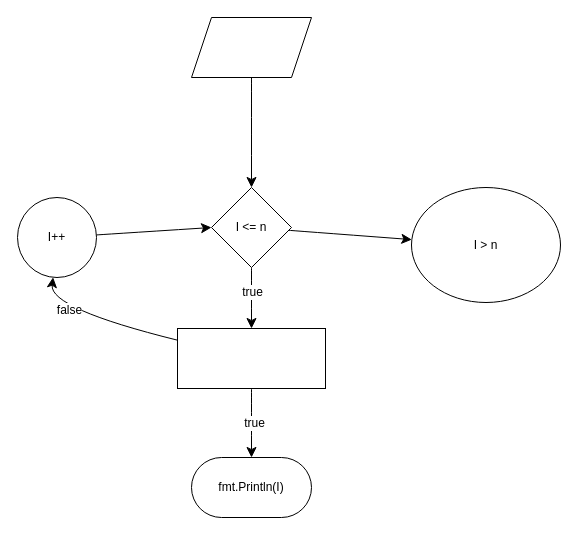
This 578x535 diagram has some shape labels left out. The box of each missing label's shape, as (x1, y1, x2, y2) in pixels:
if I%d == 0 && I%c != 0: (176, 328, 326, 388)
n = 0 d = 0 c = 0: (190, 16, 312, 78)
